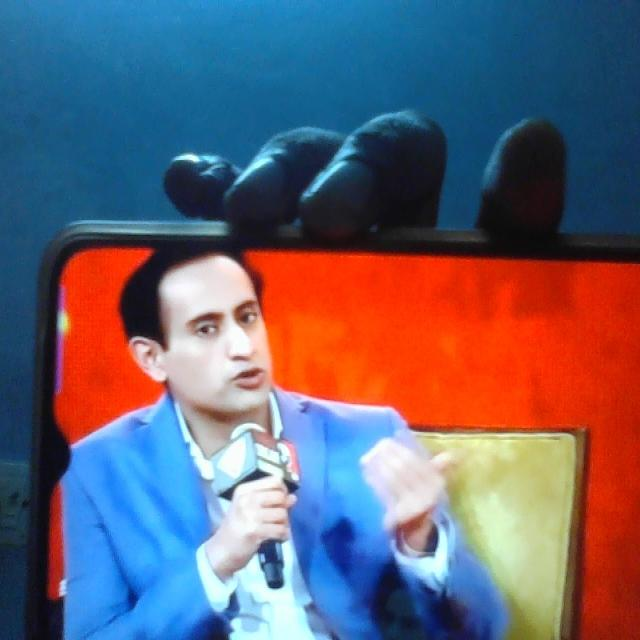fake: (156, 211, 276, 437)
